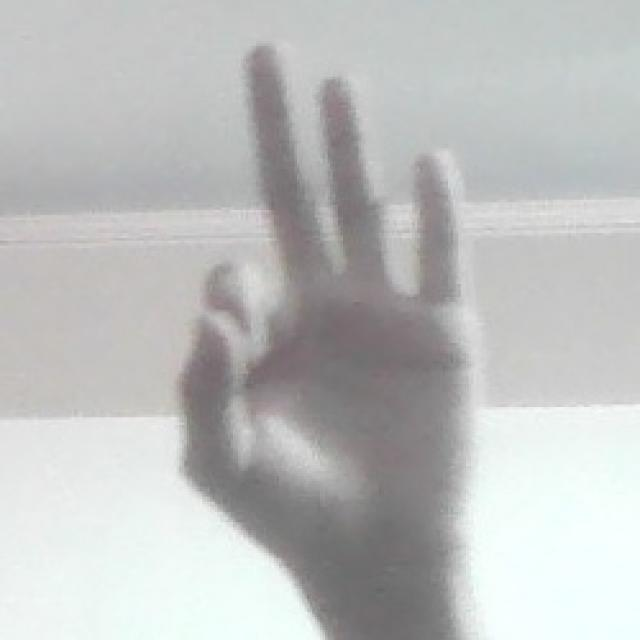Numeric-9: (168, 35, 486, 606)
